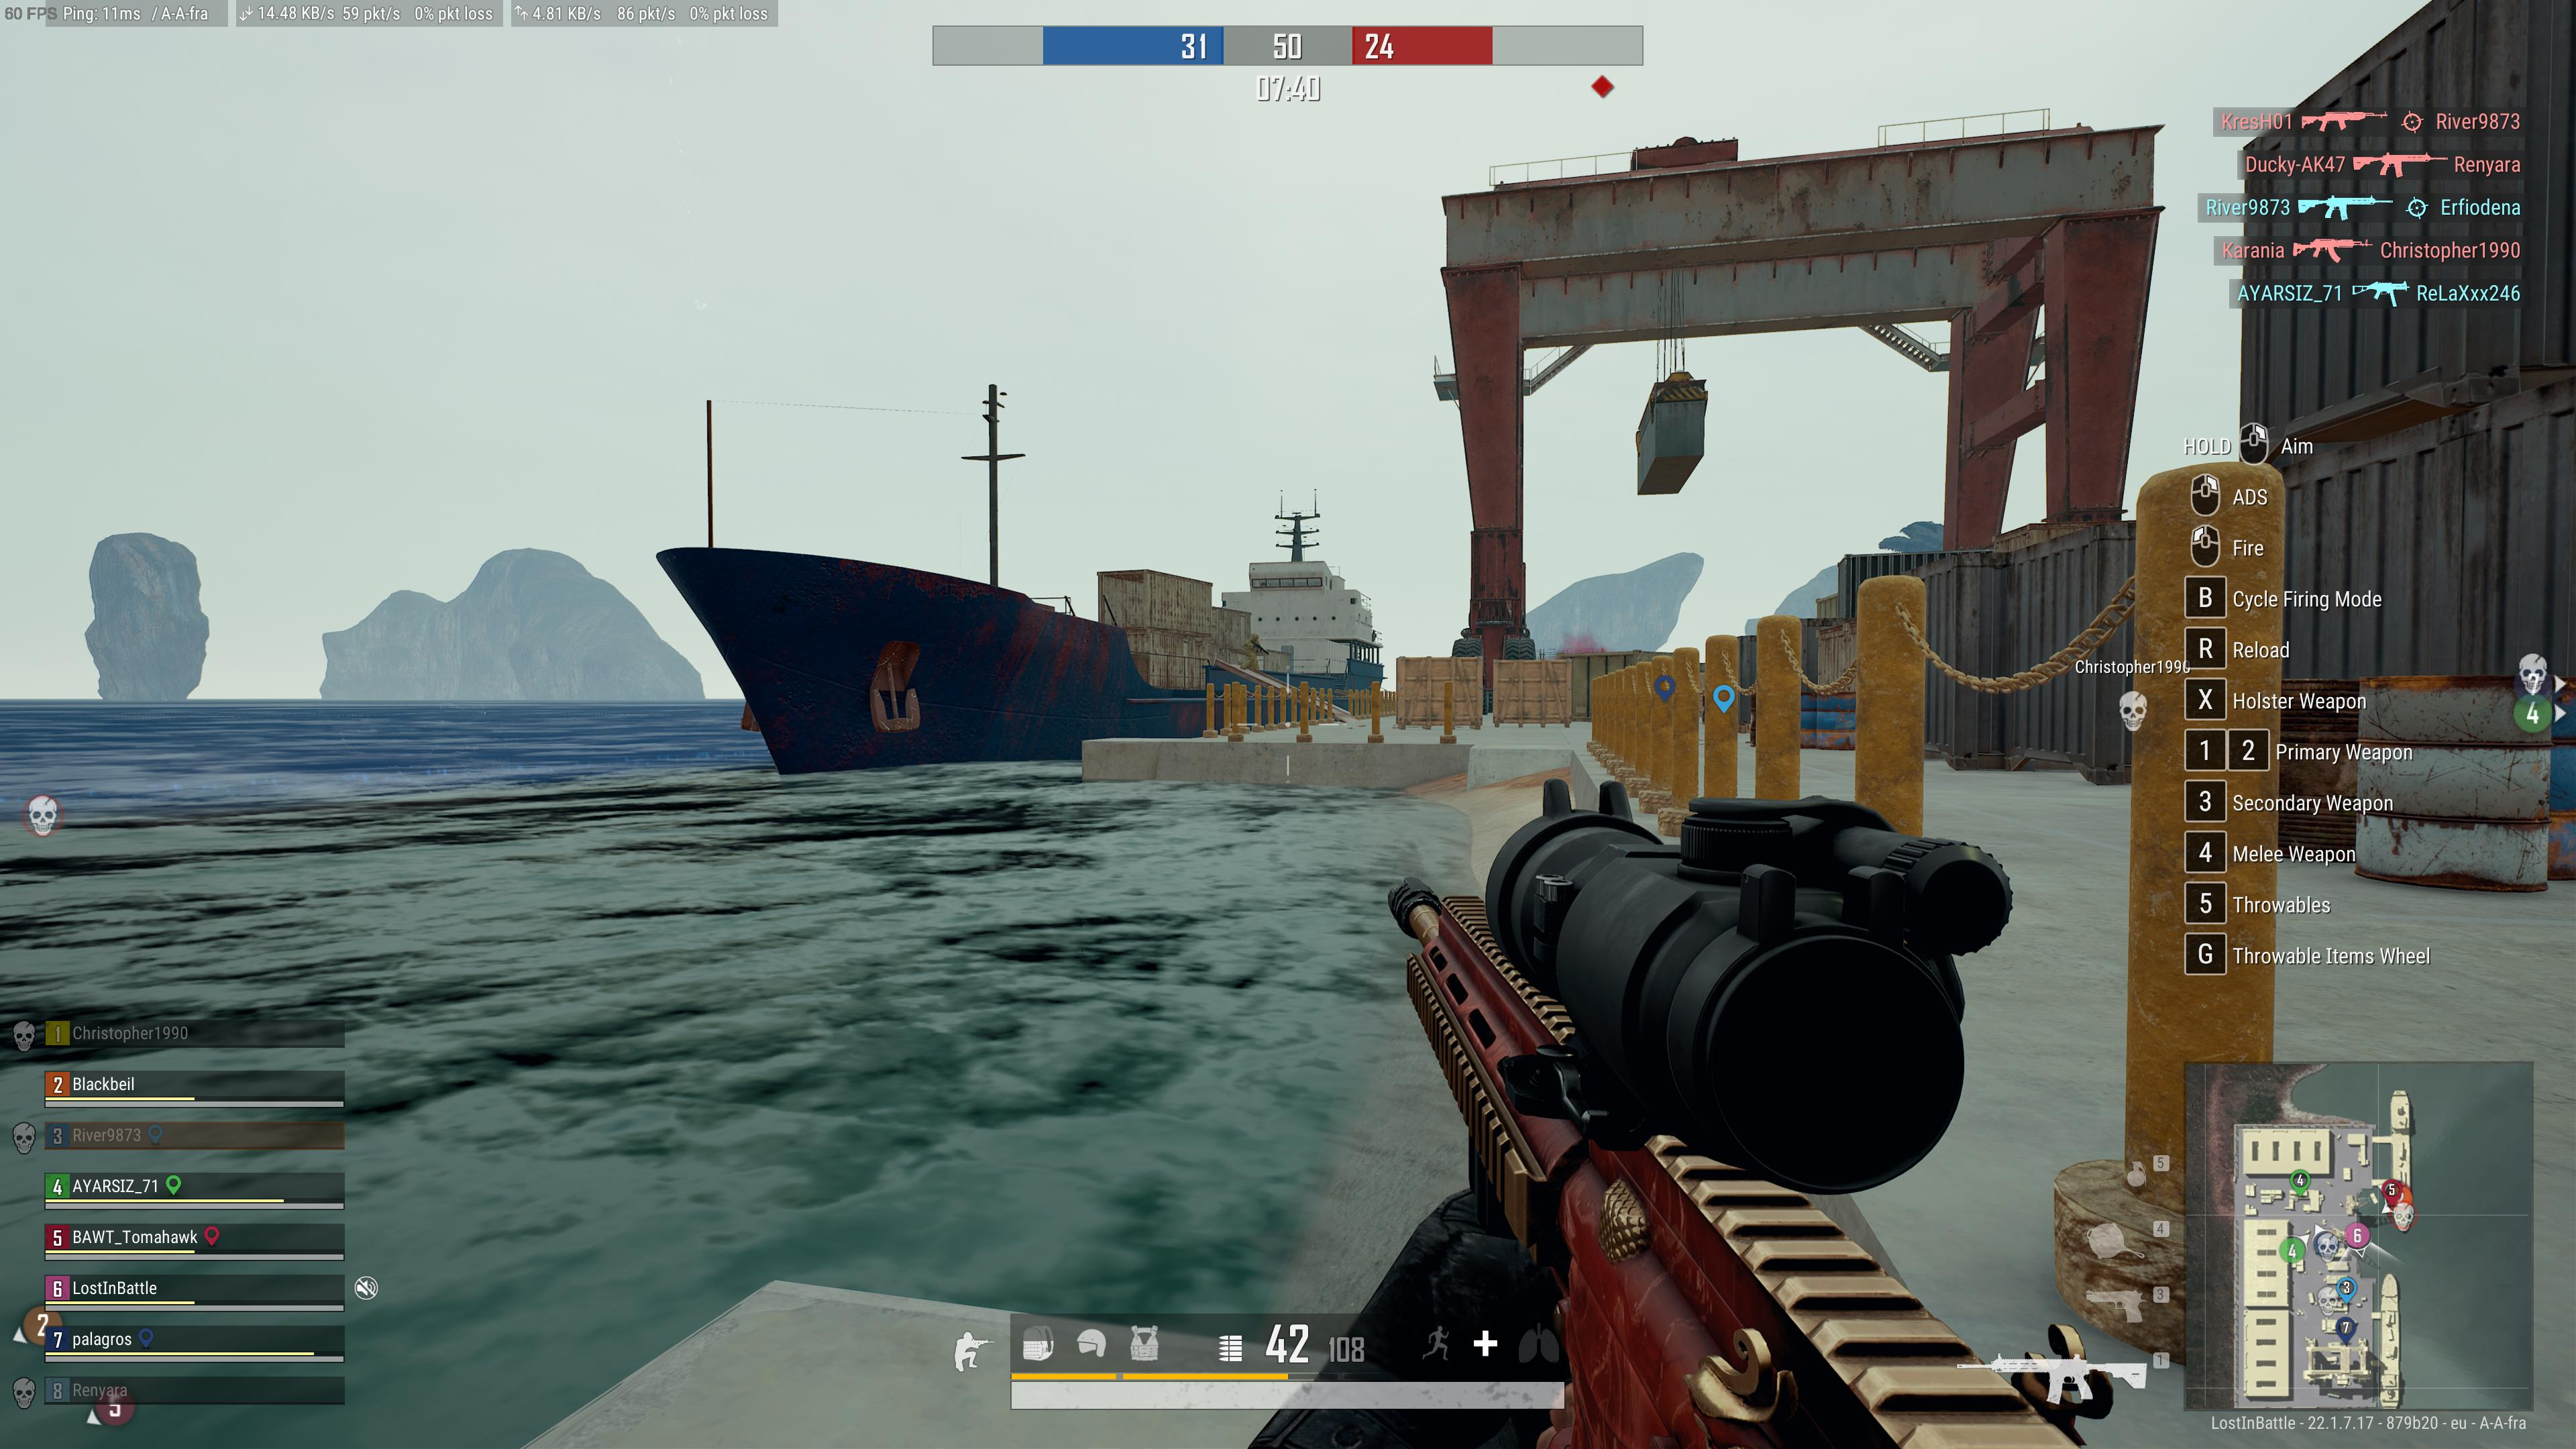enemy: (1238, 632, 1261, 672)
enemy_head: (1249, 633, 1260, 642)
